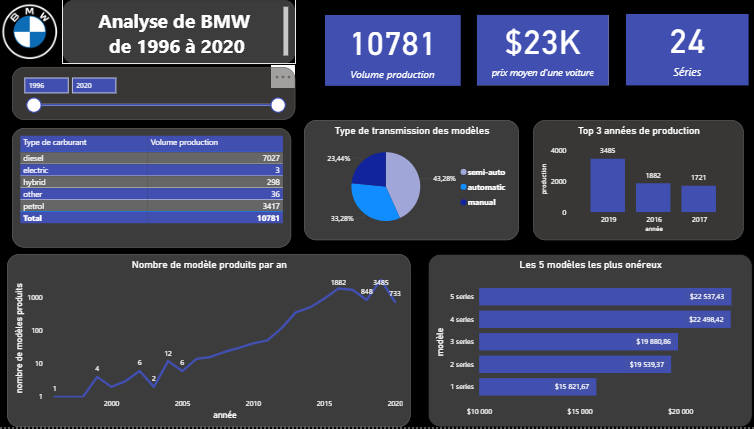

The page's visual inventory and layout, read from the dashboard file:
{"tool":"powerbi","page":{"name":"overview","canvas":[1280,720],"ordinal":0},"visuals":[{"type":"cardVisual","fields":{"Data":["Count(bmw.model)"]},"box":[1049.7,22,216.8,130.4],"z":0},{"type":"barChart","title":"Les 5 modèles les plus onéreux ","fields":{"Category":["bmw.model"],"Y":["bmw.prixmoy"]},"box":[721.8,429.5,544.8,290.9],"z":1000},{"type":"pieChart","title":"Type de transmission des modèles","fields":{"Category":["bmw.transmission"],"Y":["CountNonNull(bmw.transmission)","select"]},"box":[513.2,204.5,360.9,201.7],"z":2000},{"type":"lineChart","title":"Nombre de modèle produits par an","fields":{"Category":["bmw.year"],"Y":["bmw.Models Count"]},"box":[15.1,429.5,677.9,290.9],"z":3000},{"type":"cardVisual","fields":{"Data":["bmw.prixmoy"]},"box":[800,23.3,231.9,129],"z":4000},{"type":"tableEx","fields":{"Values":["bmw.fuelType","bmw.Models Count"]},"box":[24.3,218.6,468.6,201.4],"z":5000},{"type":"textbox","box":[107.1,1.4,392.9,110],"z":6000},{"type":"columnChart","title":"Top 3 années de production","fields":{"Y":["bmw.Models Count"],"Category":["bmw.year"]},"box":[898.8,204.5,354,201.7],"z":7000},{"type":"cardVisual","fields":{"Data":["bmw.Models Count"]},"box":[548.9,28.8,227.8,119.4],"z":8000},{"type":"slicer","fields":{"Values":["bmw.year"]},"box":[24.3,115.7,475.7,88.6],"z":9000},{"type":"image","box":[0,0,107.1,111.4],"z":10000}]}

Visuals, with their boxes in screenshot pixels (x1, y1, x2, y2), scaled from the page's 1280x720 canvas onto the 754x429 screenshot:
cardVisual - Count(bmw.model): (left=618, top=13, right=746, bottom=91)
"Les 5 modèles les plus onéreux " barChart: (left=425, top=256, right=746, bottom=428)
"Type de transmission des modèles" pieChart: (left=302, top=122, right=515, bottom=242)
"Nombre de modèle produits par an" lineChart: (left=9, top=256, right=408, bottom=428)
cardVisual - bmw.prixmoy: (left=471, top=14, right=608, bottom=91)
tableEx - bmw.fuelType x bmw.Models Count: (left=14, top=130, right=290, bottom=250)
textbox: (left=63, top=1, right=295, bottom=66)
"Top 3 années de production" columnChart: (left=529, top=122, right=738, bottom=242)
cardVisual - bmw.Models Count: (left=323, top=17, right=458, bottom=88)
slicer - bmw.year: (left=14, top=69, right=295, bottom=122)
image: (left=0, top=0, right=63, bottom=66)
